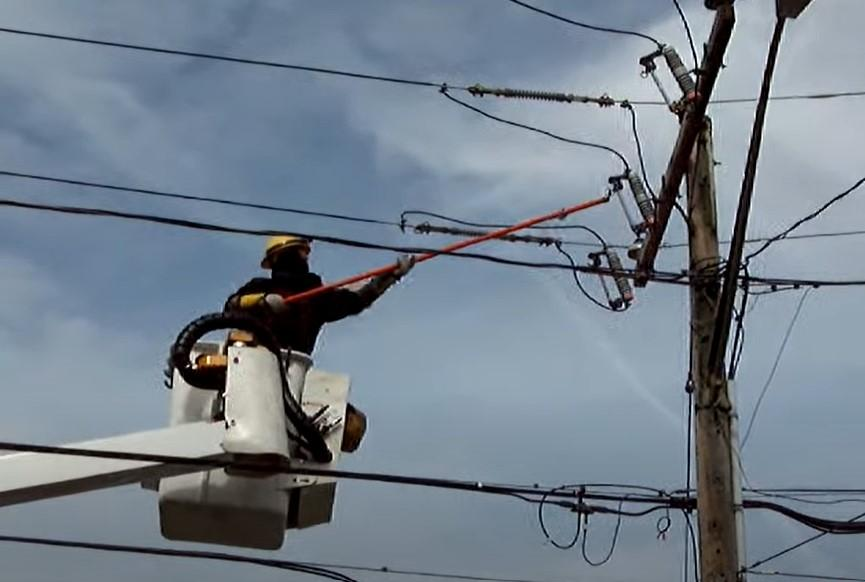Vara_Manobra: (275, 190, 612, 303)
